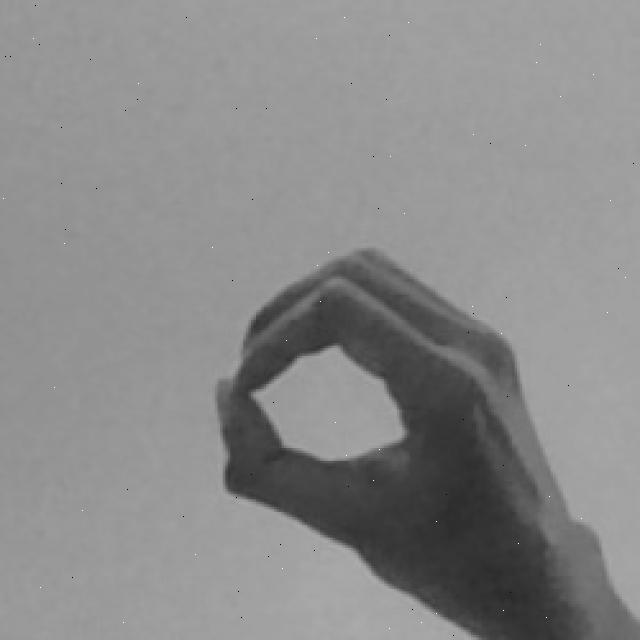O: (212, 240, 639, 640)
